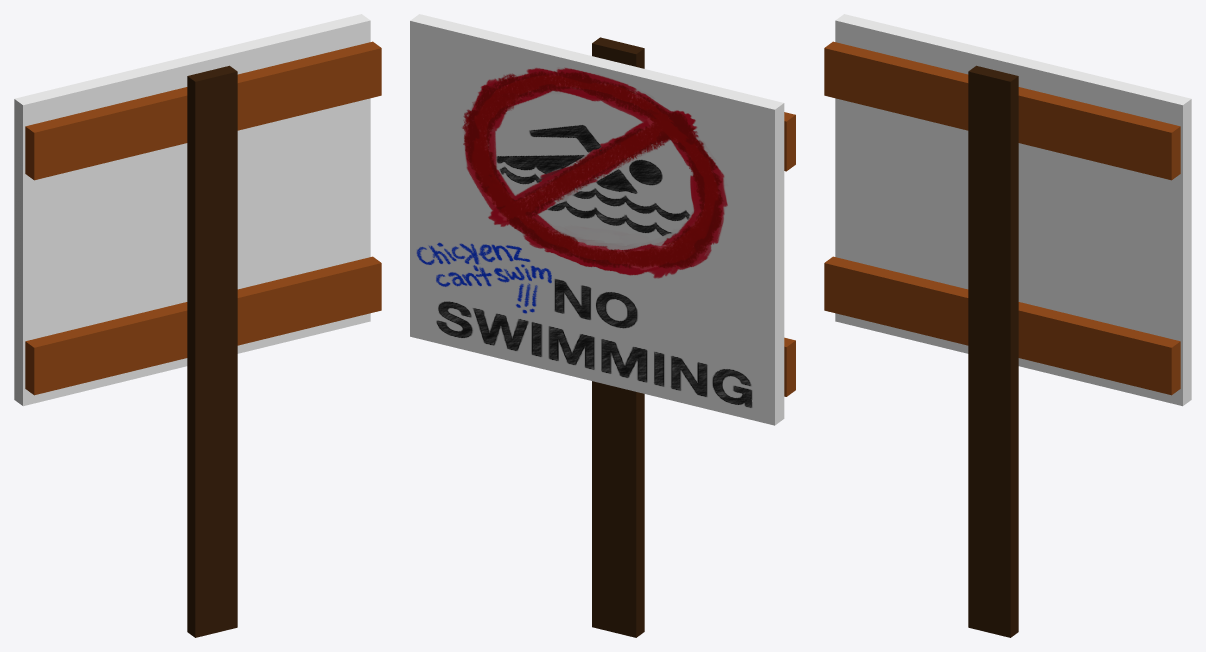
Rendered from sign1.fbx.
The picture shows the model from 3 angles, left to right: view 1: azimuth 30°, elevation 25°; view 2: azimuth 150°, elevation 25°; view 3: azimuth 330°, elevation 25°; orthographic projection. The views are drawn at different scales.
Parts seen in each view (by area): view 1: Cube.008, Cube.007, Cube.009, Cube.010; view 2: Cube.008, Cube.007, Cube.010, Cube.009; view 3: Cube.008, Cube.007, Cube.009, Cube.010.
Boxes of the visible parts, <box> form: Cube.008: <box>14,14,370,406</box>; Cube.007: <box>187,65,237,637</box>; Cube.009: <box>25,256,381,395</box>; Cube.010: <box>25,41,381,180</box>; Cube.008: <box>410,14,784,425</box>; Cube.007: <box>592,37,644,637</box>; Cube.010: <box>784,112,795,171</box>; Cube.009: <box>784,337,795,396</box>; Cube.008: <box>835,14,1191,406</box>; Cube.007: <box>968,65,1018,637</box>; Cube.009: <box>824,256,1180,395</box>; Cube.010: <box>824,41,1180,180</box>.
Size of the model in its own units: 6.86 by 10.49 by 0.9754.
3 materials, 1 textured.
